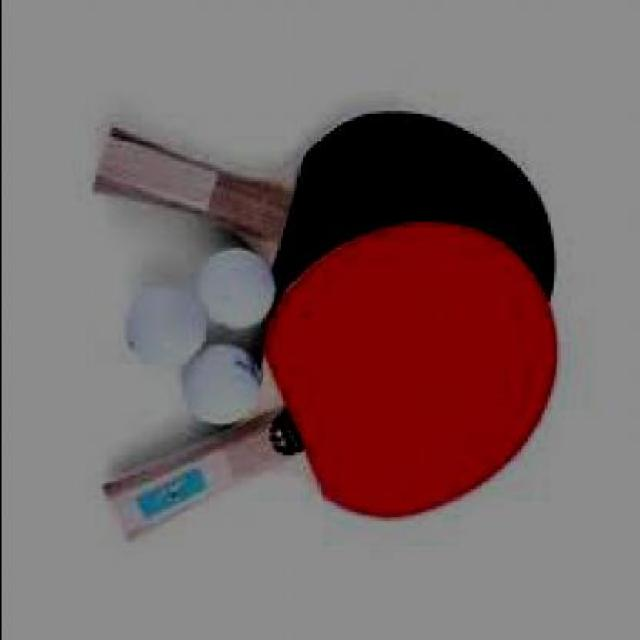table_tennis_racket: (253, 224, 555, 541), (270, 88, 558, 310)
